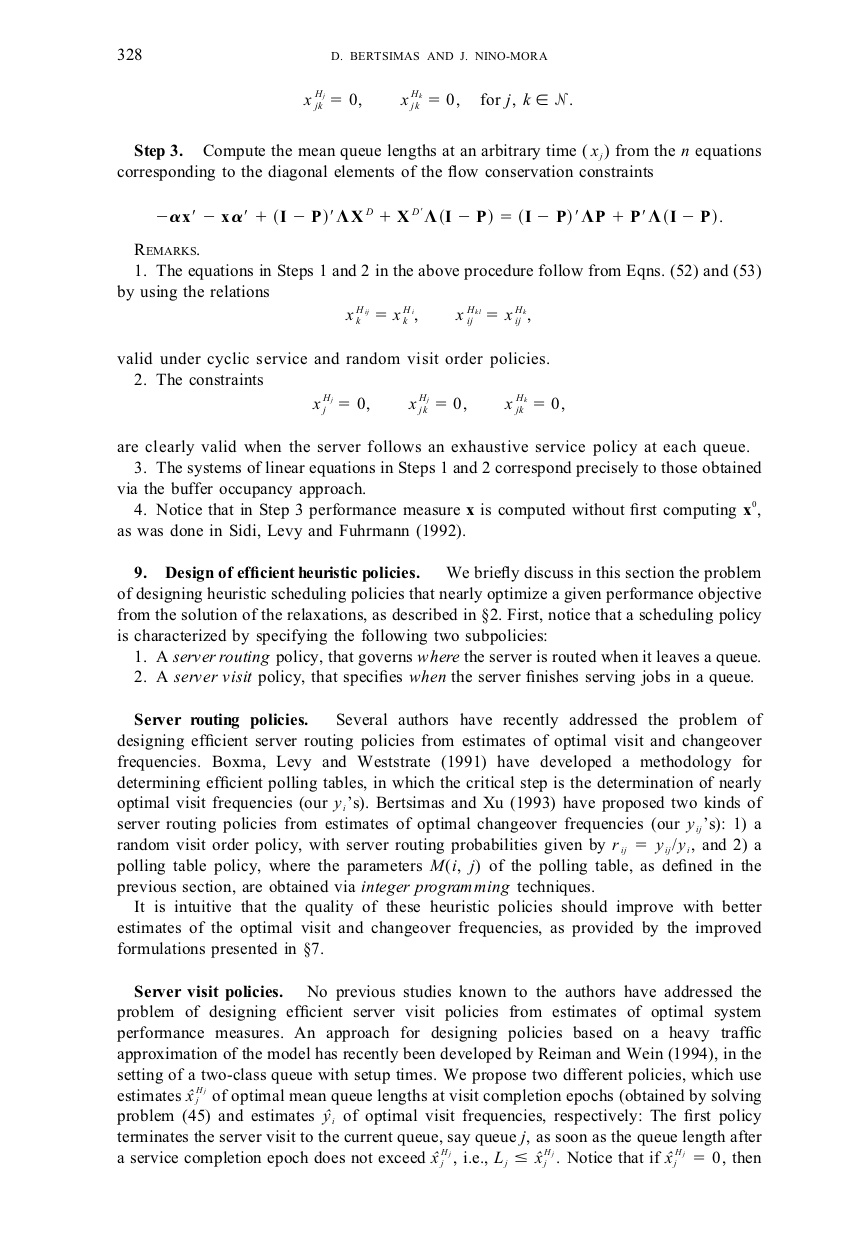formula: (157, 207, 721, 225), (303, 89, 571, 111), (312, 392, 564, 415), (345, 305, 530, 326)
